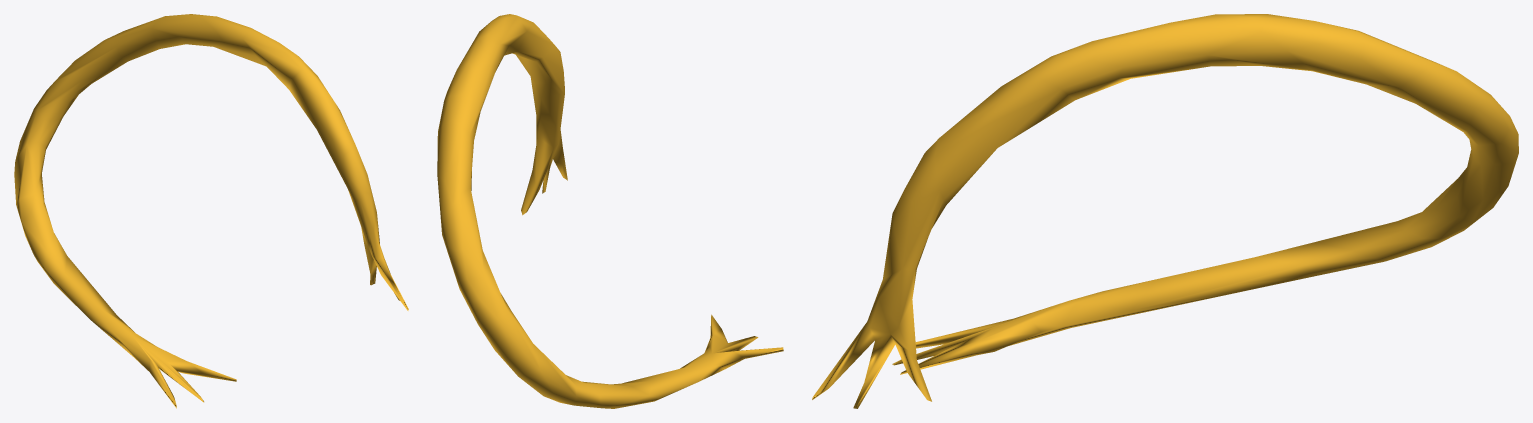
File: nervoso-stria-terminalis-r.glb
The picture shows the model from 3 angles, left to right: view 1: azimuth 30°, elevation 25°; view 2: azimuth 150°, elevation 25°; view 3: azimuth 270°, elevation 25°; orthographic projection. The views are drawn at different scales.
Parts seen in each view (by area): view 1: Stria terminalis.r; view 2: Stria terminalis.r; view 3: Stria terminalis.r.
Part boxes in pixels (x1,y1,x2,y2): Stria terminalis.r: (14,14,408,408); Stria terminalis.r: (437,14,783,408); Stria terminalis.r: (812,14,1518,408).
Size of the model in its own units: 0.0249 by 0.0299 by 0.0423.
